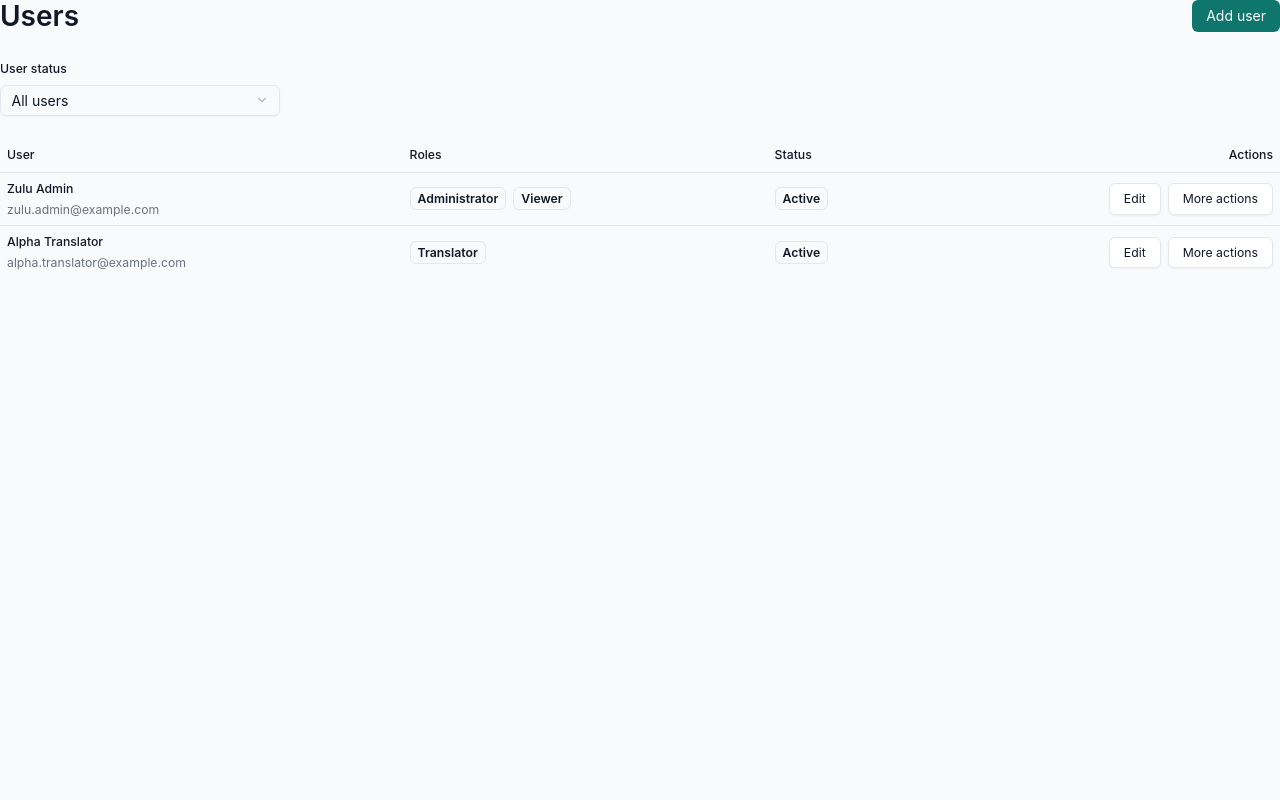
Test: administrator users page tracer › retries initial product loading without clearing account fields
Click the button "Add user" at [1236, 16], box top-left (1192, 0), bottom-right (1279, 32)
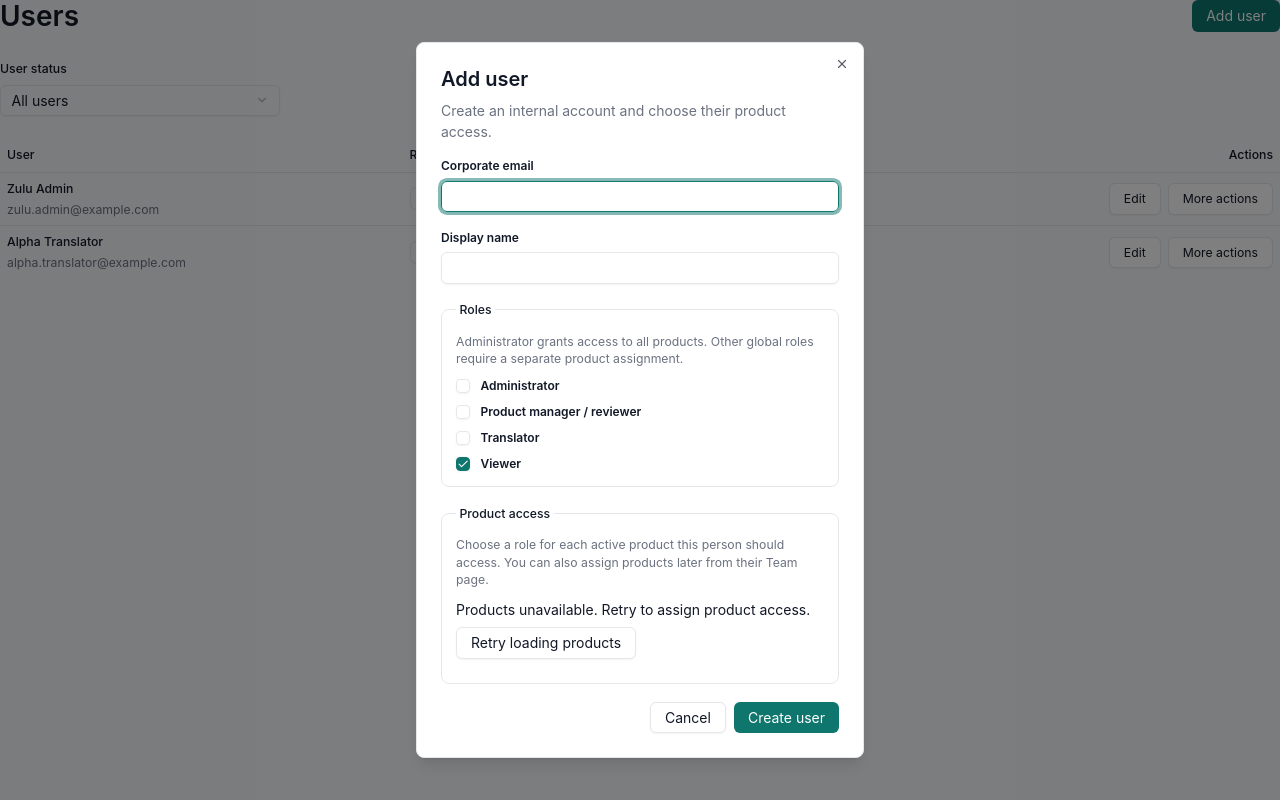
Type "Draft Name" into the field labelled "Display name" at [640, 268], box top-left (441, 252), bottom-right (839, 284)
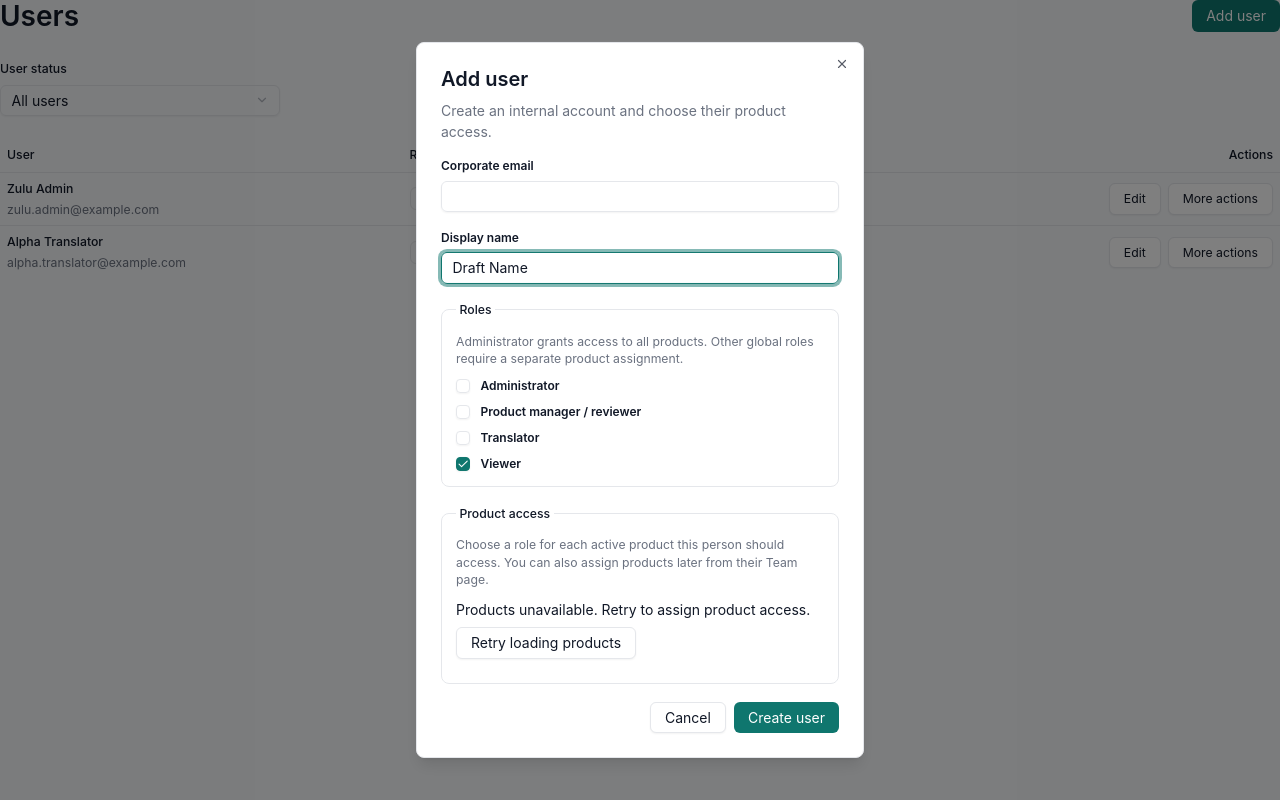
expect the message shows "Products unavailable": met, box top-left (456, 601), bottom-right (810, 618)
Click the button "Retry loading products" at [546, 643], box top-left (456, 627), bottom-right (636, 658)
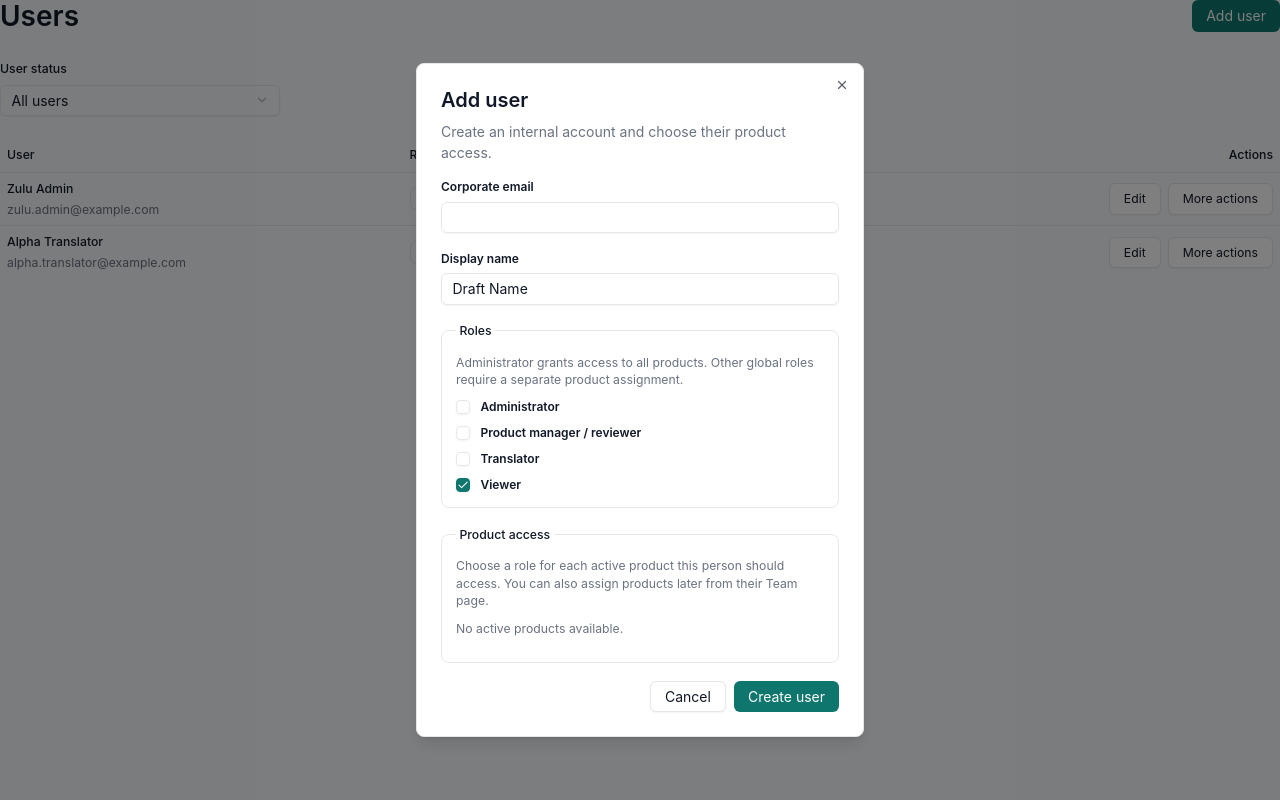
expect the text "No active products available." is shown: met, box top-left (456, 621), bottom-right (623, 636)
